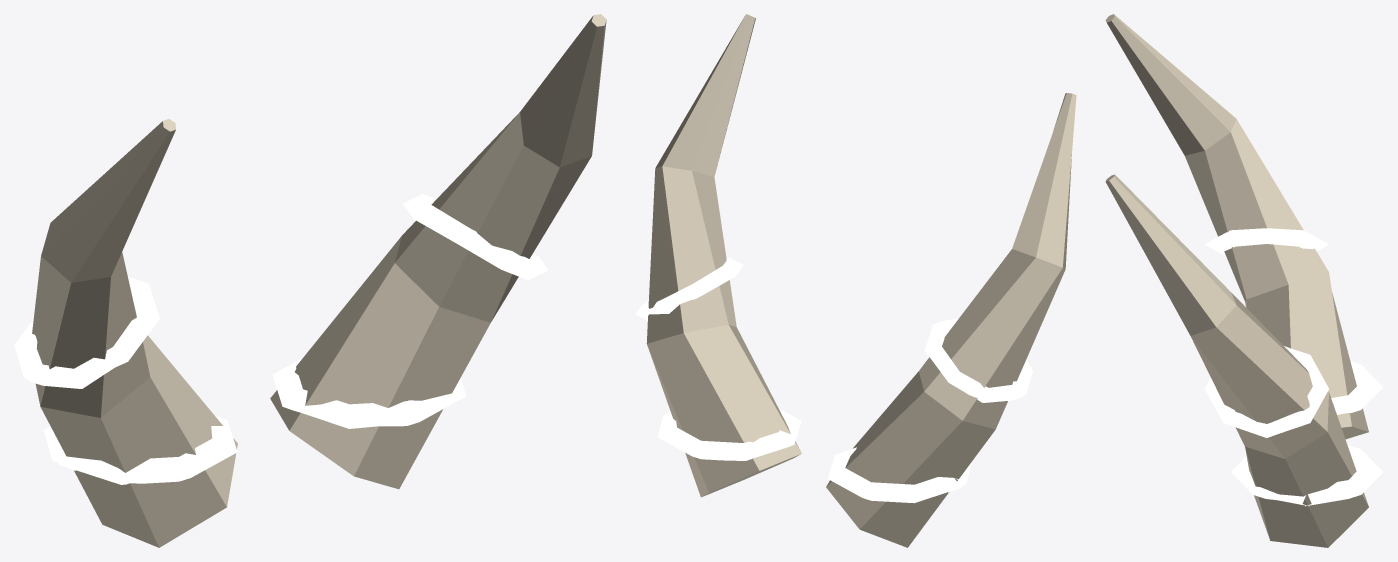
File: imp-horns.glb
3 views of the same model, side by side, from view 1: azimuth 30°, elevation 25°; view 2: azimuth 150°, elevation 25°; view 3: azimuth 270°, elevation 25° (orthographic). The views are drawn at different scales.
Visible parts, largest first — view 1: imp_horns; view 2: imp_horns; view 3: imp_horns.
Boxes of the visible parts, x1,y1,x2,y2 form: imp_horns: (14, 14, 606, 547); imp_horns: (635, 14, 1076, 547); imp_horns: (1105, 14, 1383, 547).
Size of the model in its own units: 0.2395 by 0.2202 by 0.1384.
